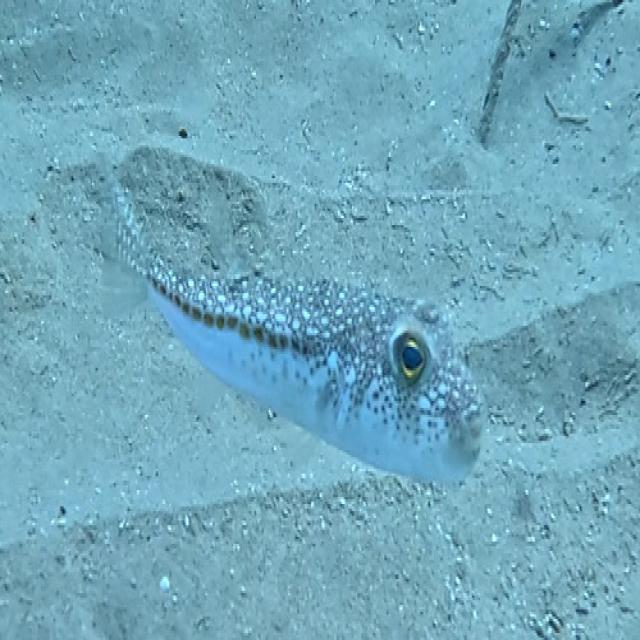Balik: (114, 188, 481, 480)
